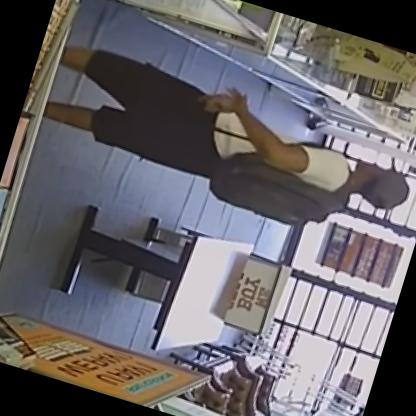Human Body: (32, 29, 415, 259)
